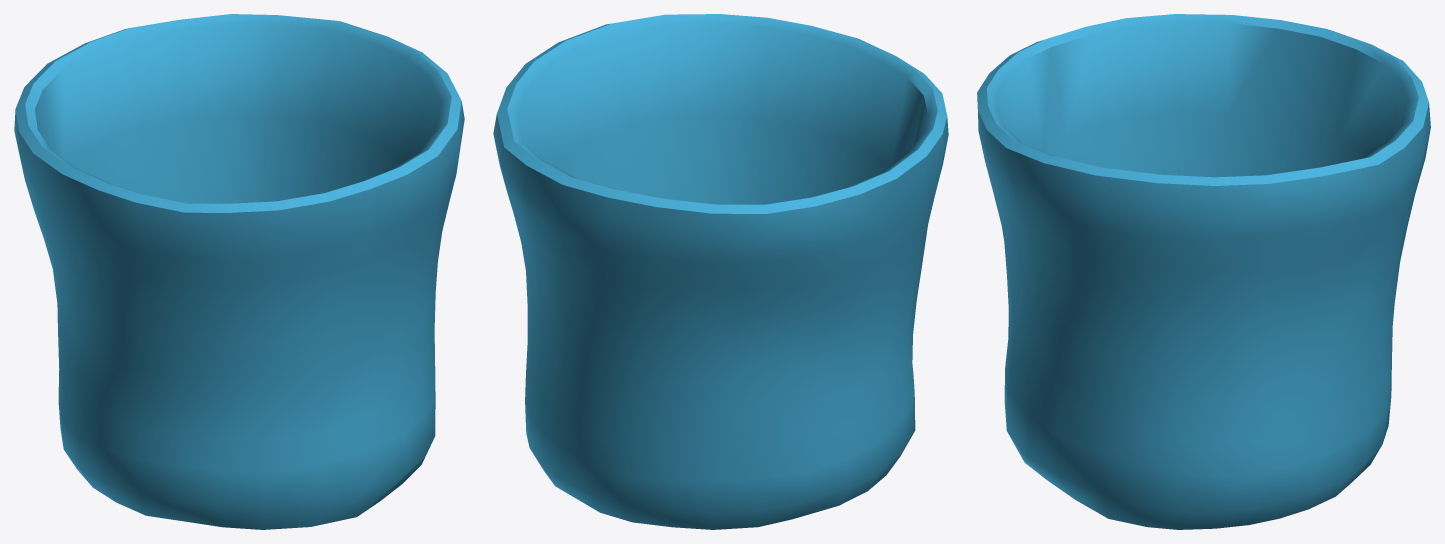
3 views of the same model, side by side, from view 1: azimuth 30°, elevation 25°; view 2: azimuth 150°, elevation 25°; view 3: azimuth 270°, elevation 25° (orthographic).
Visible parts, largest first — view 1: Box001_13 - Default_0; view 2: Box001_13 - Default_0; view 3: Box001_13 - Default_0.
Boxes of the visible parts, <box> form: Box001_13 - Default_0: <box>14,14,464,529</box>; Box001_13 - Default_0: <box>493,14,948,529</box>; Box001_13 - Default_0: <box>977,14,1430,529</box>.
Size of the model in its own units: 0.9714 by 0.8865 by 1.
